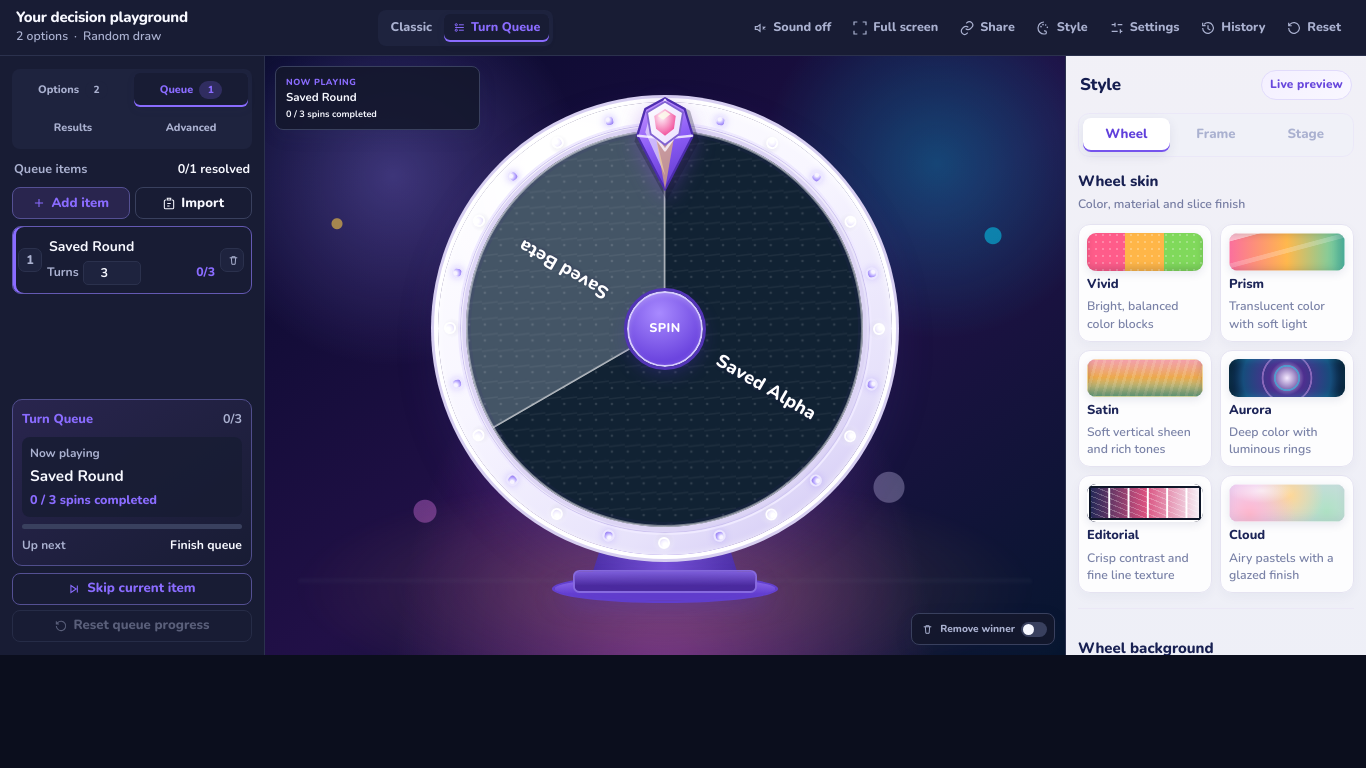
Scenario: WheelGame integration › restores options, queue state, and mode from local storage
Expected: the field showing "Saved Round" is shown, [47, 236, 215, 258]
Click the tab "Options 2" at point(73, 90), box [16, 73, 130, 107]
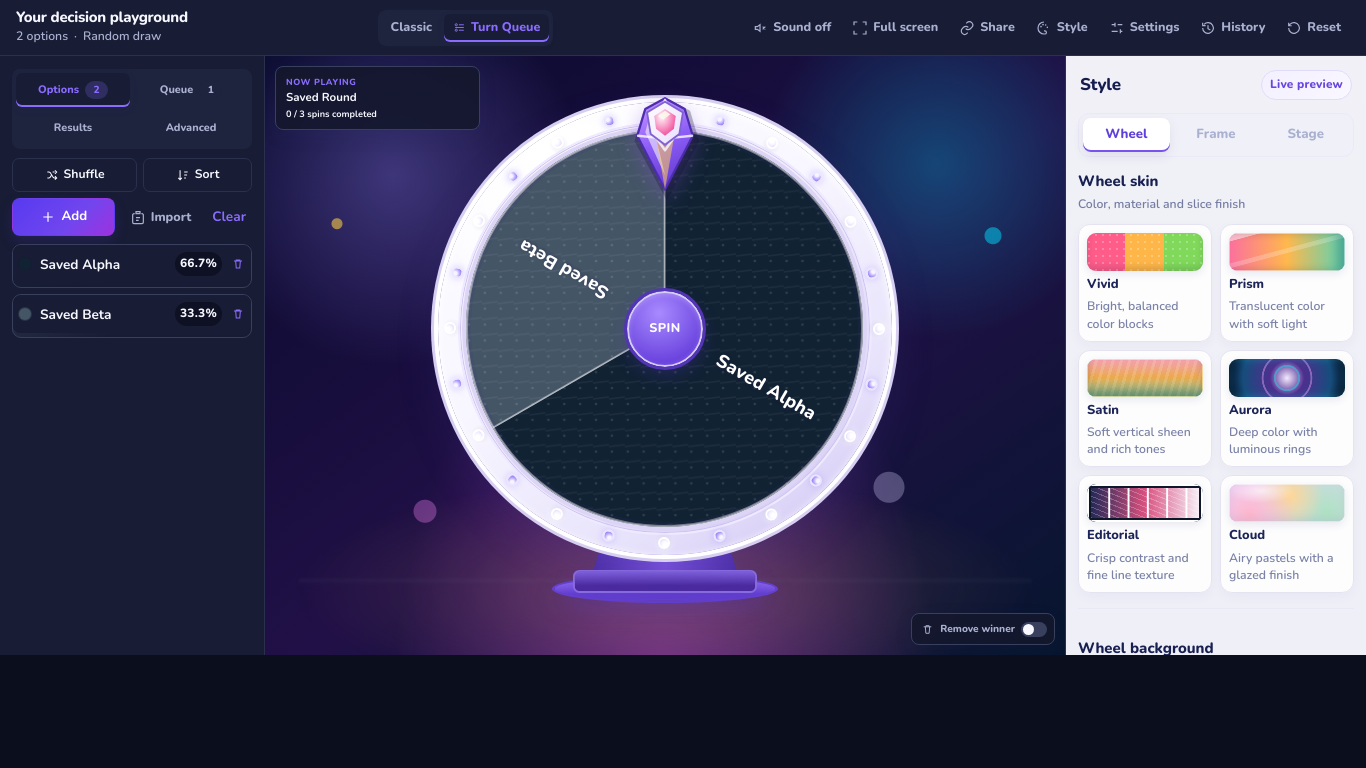
Expected: the field showing "Saved Alpha" is shown, [36, 247, 172, 281]
Expected: the field showing "Saved Beta" is shown, [36, 297, 172, 331]
